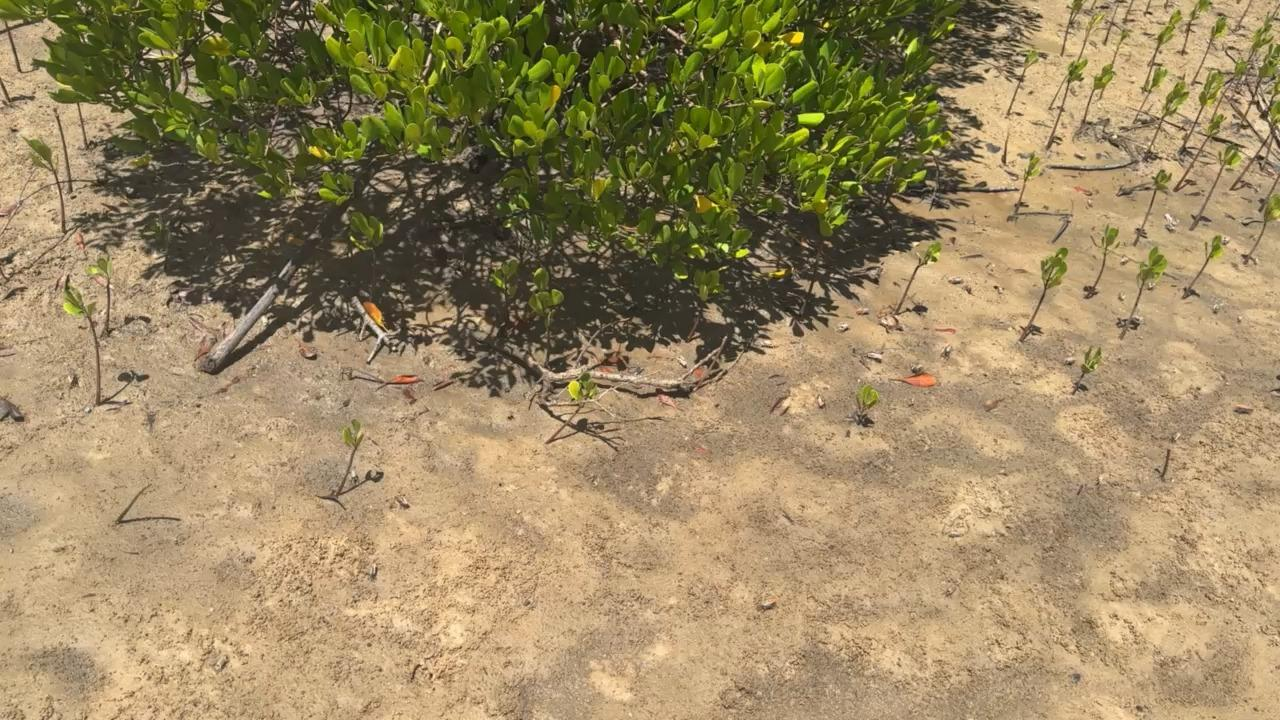Tree: (1188, 144, 1242, 231), (63, 286, 102, 405), (1229, 102, 1280, 191), (1020, 248, 1068, 341), (1118, 247, 1167, 338), (21, 135, 65, 235), (1044, 59, 1088, 150), (1174, 115, 1226, 190), (543, 375, 597, 445), (1237, 45, 1280, 129), (894, 241, 942, 316), (1181, 69, 1224, 147), (1147, 82, 1190, 154), (1133, 170, 1172, 246), (1084, 225, 1121, 297), (1242, 194, 1280, 264), (1183, 236, 1224, 299), (1211, 59, 1250, 119), (1193, 16, 1226, 84), (1099, 28, 1130, 100), (1006, 50, 1039, 116), (337, 420, 364, 499), (1132, 67, 1168, 125), (1081, 63, 1116, 122), (1147, 9, 1180, 66), (88, 258, 113, 330), (1144, 27, 1173, 89), (53, 109, 72, 193), (1182, 0, 1211, 53), (1072, 346, 1103, 393), (1016, 153, 1042, 205), (1061, 0, 1085, 55), (117, 485, 151, 521), (1248, 21, 1273, 60), (4, 18, 21, 74), (857, 385, 880, 425), (1262, 124, 1280, 171), (1078, 18, 1097, 60), (1259, 176, 1280, 211), (1048, 78, 1067, 111), (1104, 6, 1120, 45), (77, 100, 88, 148), (1161, 450, 1172, 478), (1123, 0, 1134, 22), (0, 78, 10, 100), (1143, 0, 1151, 18)
